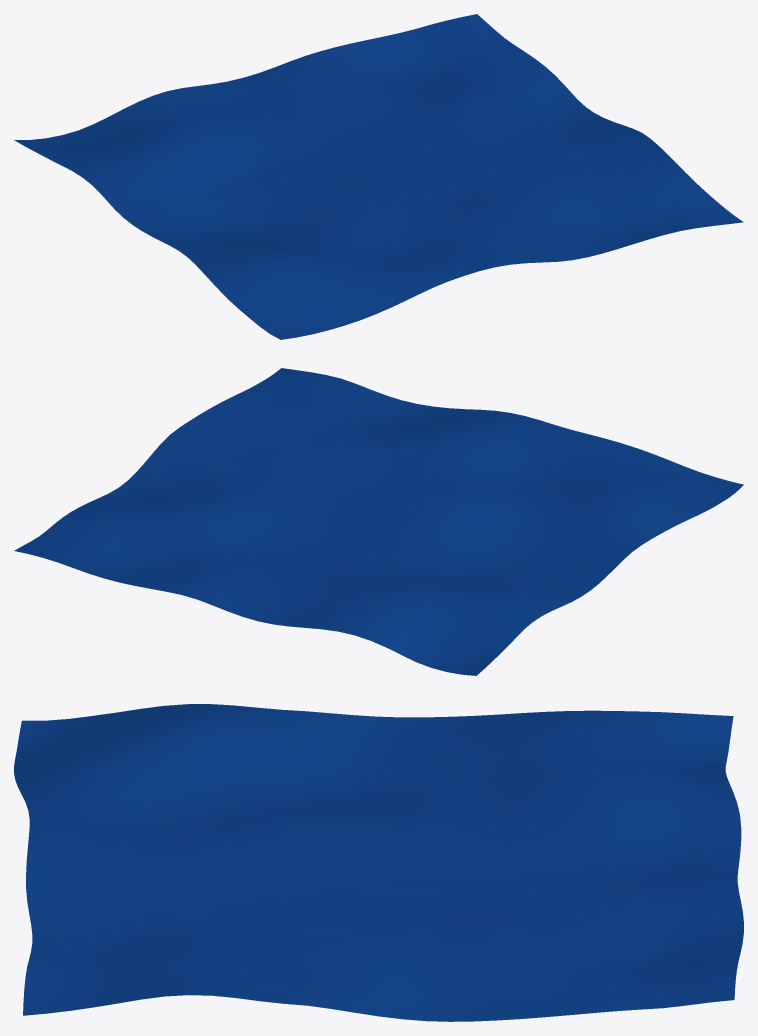
Rendered from wave_1.obj.
3 views of the same model, one above another, from view 1: azimuth 30°, elevation 25°; view 2: azimuth 150°, elevation 25°; view 3: azimuth 270°, elevation 25° (orthographic). The views are drawn at different scales.
Visible parts, largest first — view 1: Plane001; view 2: Plane001; view 3: Plane001.
Boxes of the visible parts, left/top/right/bottom form: Plane001: left=14, top=14, right=743, bottom=339; Plane001: left=14, top=368, right=743, bottom=675; Plane001: left=14, top=704, right=743, bottom=1021.
Bounding box in the file's own units: 404 × 16.57 × 404.
